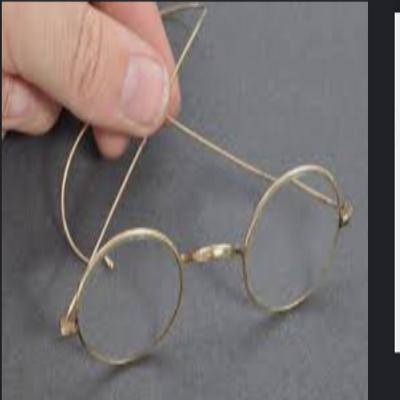glasses: (44, 86, 360, 374)
